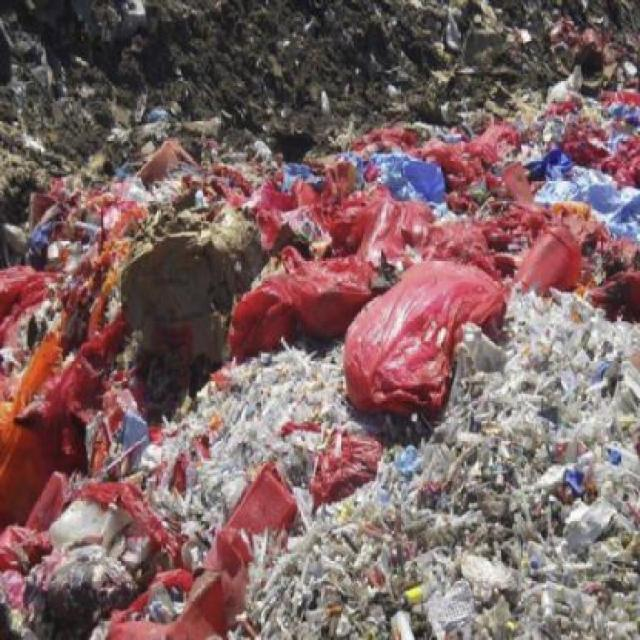garbage: (11, 160, 331, 328), (11, 293, 134, 606), (339, 240, 512, 417), (503, 96, 640, 286)
